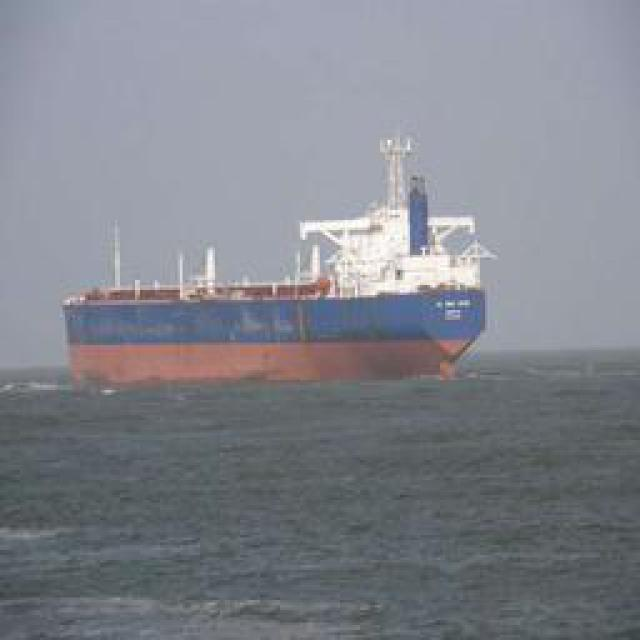Ship: (72, 235, 490, 385)
